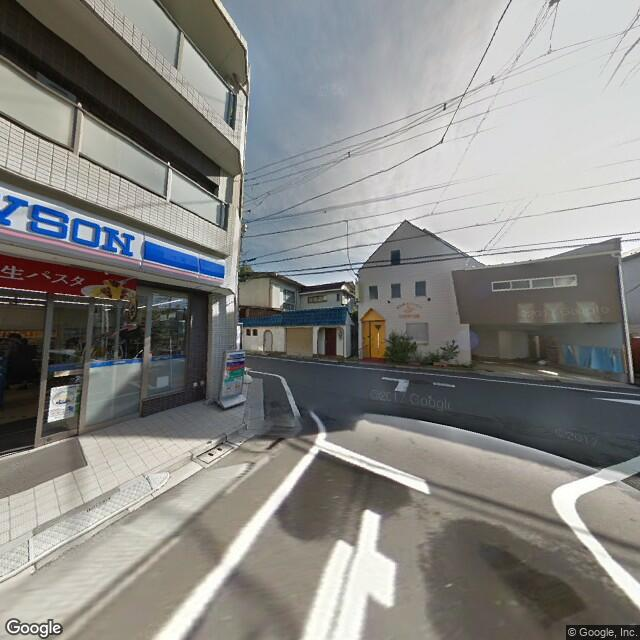lawson: (1, 179, 227, 288)
